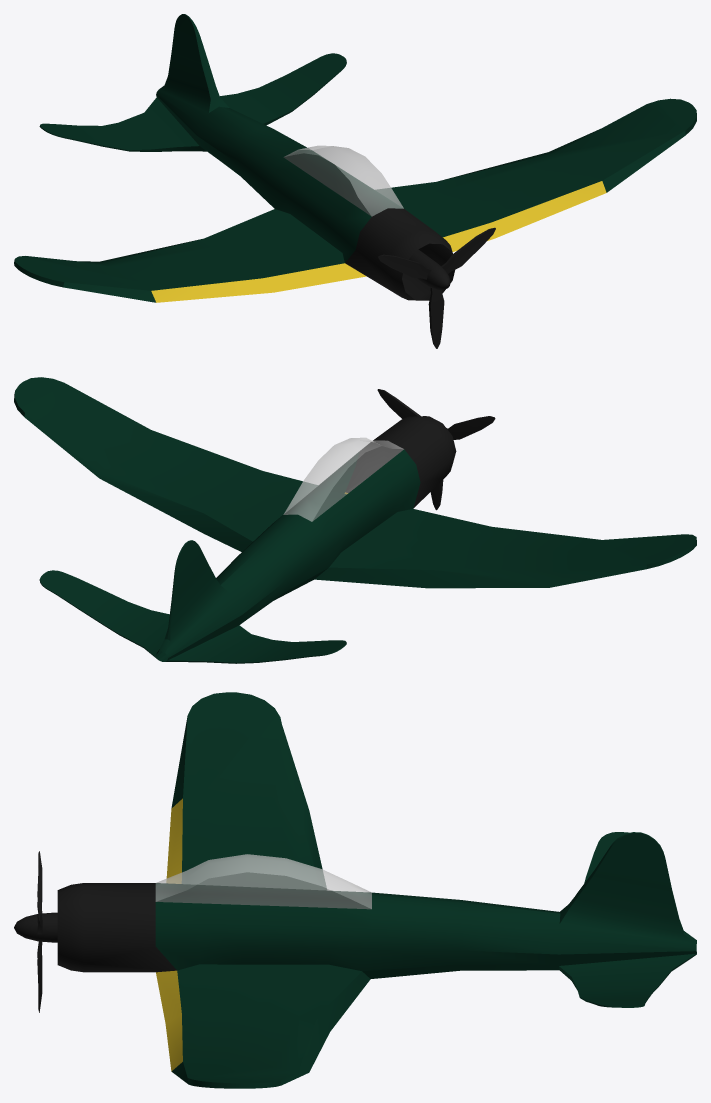
The model's file is zero.fbx.
The picture shows the model from 3 angles, top to bottom: view 1: azimuth 30°, elevation 25°; view 2: azimuth 150°, elevation 25°; view 3: azimuth 270°, elevation 25°; orthographic projection. The views are drawn at different scales.
Visible parts, largest first — view 1: Cylinder, Cylinder.001; view 2: Cylinder, Cylinder.001; view 3: Cylinder, Cylinder.001.
Part boxes in pixels (bbox=[...]): Cylinder: bbox=[14, 14, 696, 302]; Cylinder.001: bbox=[378, 227, 495, 348]; Cylinder: bbox=[14, 377, 696, 663]; Cylinder.001: bbox=[377, 389, 495, 510]; Cylinder: bbox=[57, 692, 696, 1088]; Cylinder.001: bbox=[14, 851, 57, 1012].
Size of the model in its own units: 475 by 102 by 350.
